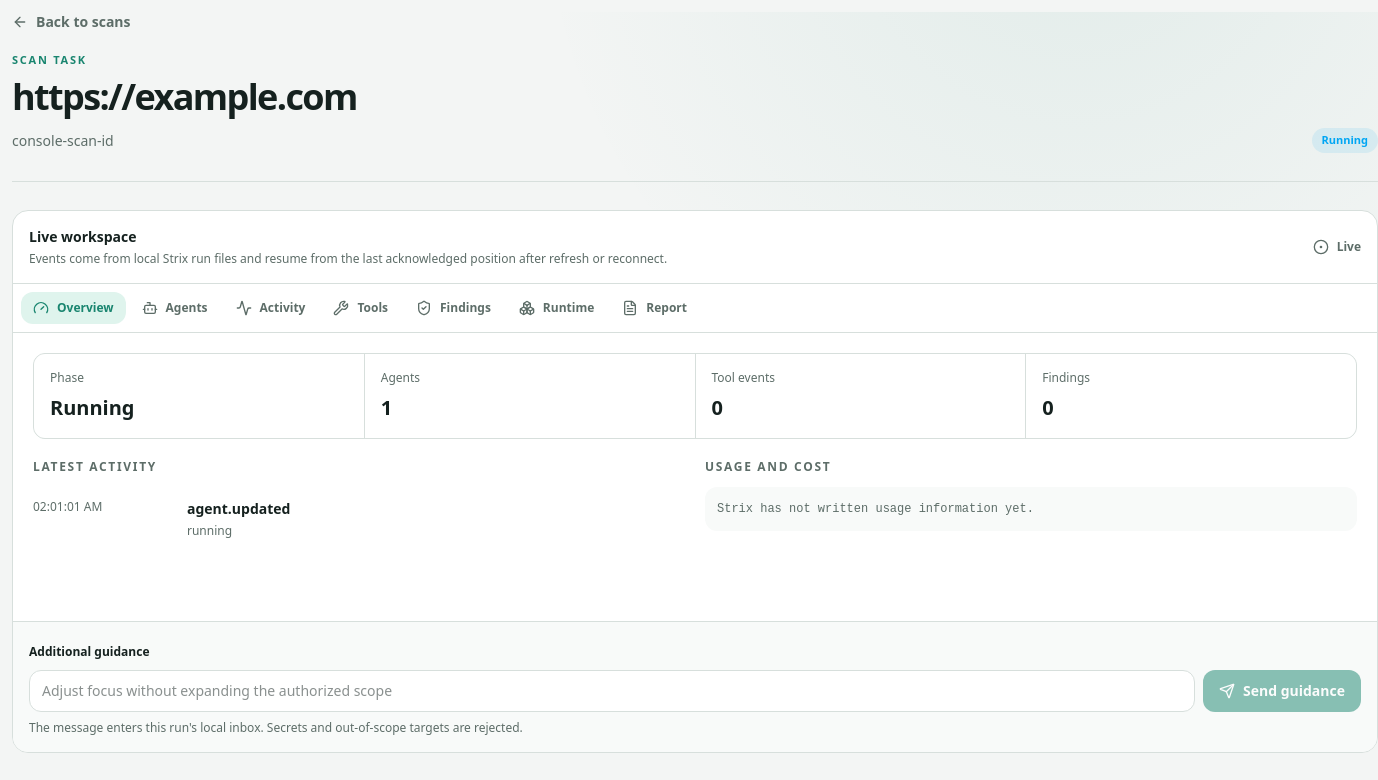
Test case: ScanDetailPage › renders the resumable live workspace and agent state
Expected: the heading "Live workspace" is shown, [29,226,136,246]
Expected: the text "Live" is shown, [1313,238,1361,254]
Click the tab "Agents": (174,308) [130,292,220,324]
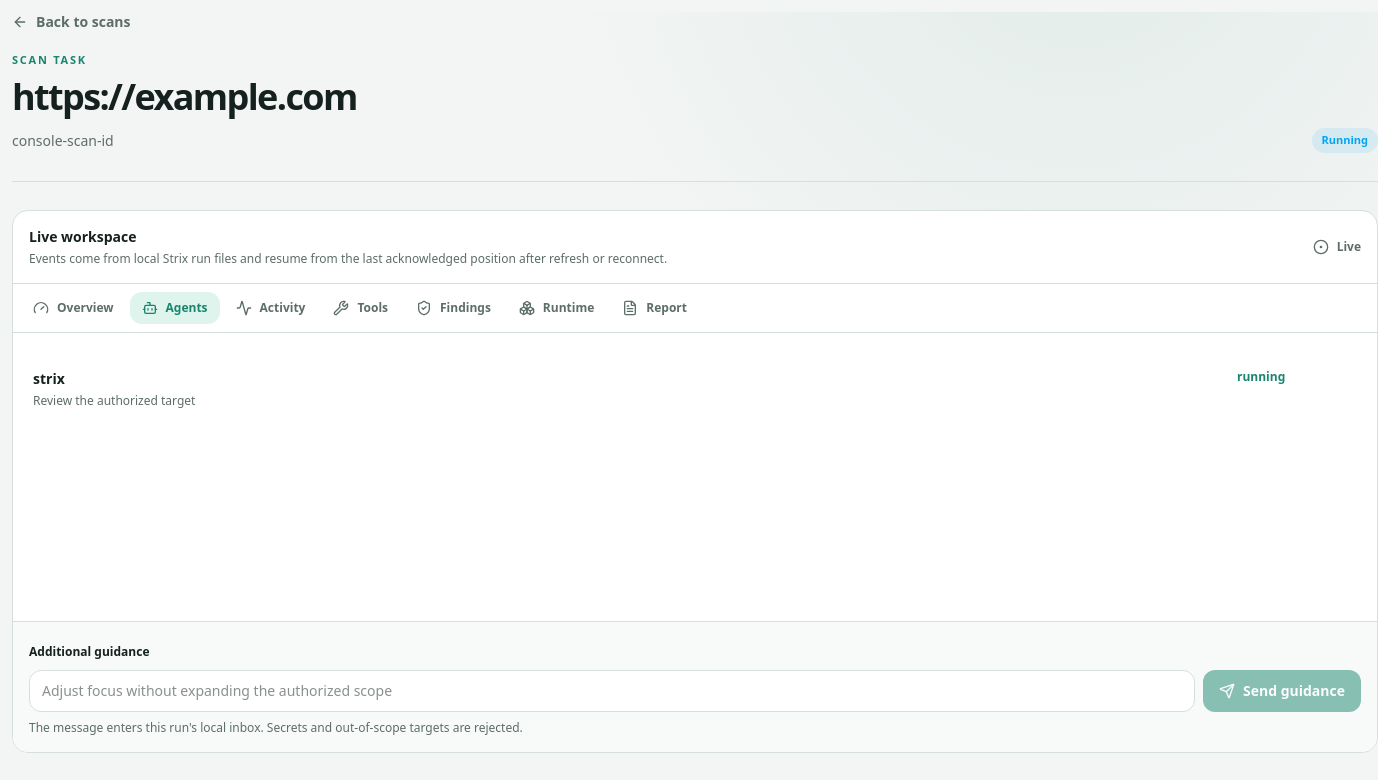
Expected: the text "strix" is shown, [33,368,65,388]
Expected: the text "Review the authorized target" is shown, [33,392,195,408]
